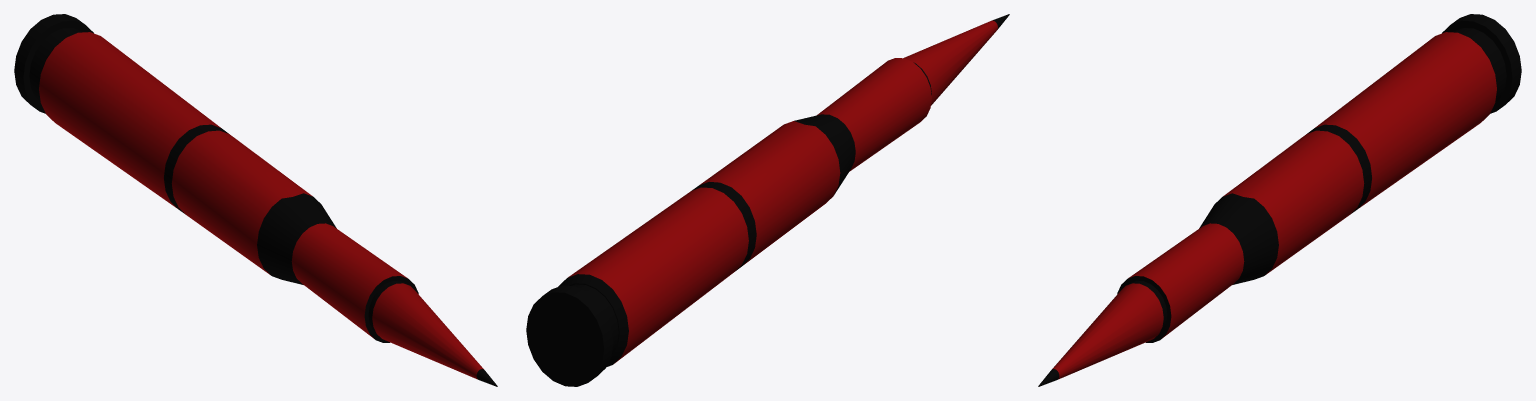
File: Bullet.fbx
3 renders of one model, left to right at view 1: azimuth 30°, elevation 25°; view 2: azimuth 150°, elevation 25°; view 3: azimuth 330°, elevation 25°, orthographic.
Parts seen in each view (by area): view 1: Cube; view 2: Cube; view 3: Cube.
Boxes of the visible parts, x1,y1,x2,y2 form: Cube: (14, 14, 497, 386); Cube: (526, 14, 1009, 386); Cube: (1038, 14, 1521, 386).
Bounding box in the file's own units: 13.68 × 15.66 × 135.
